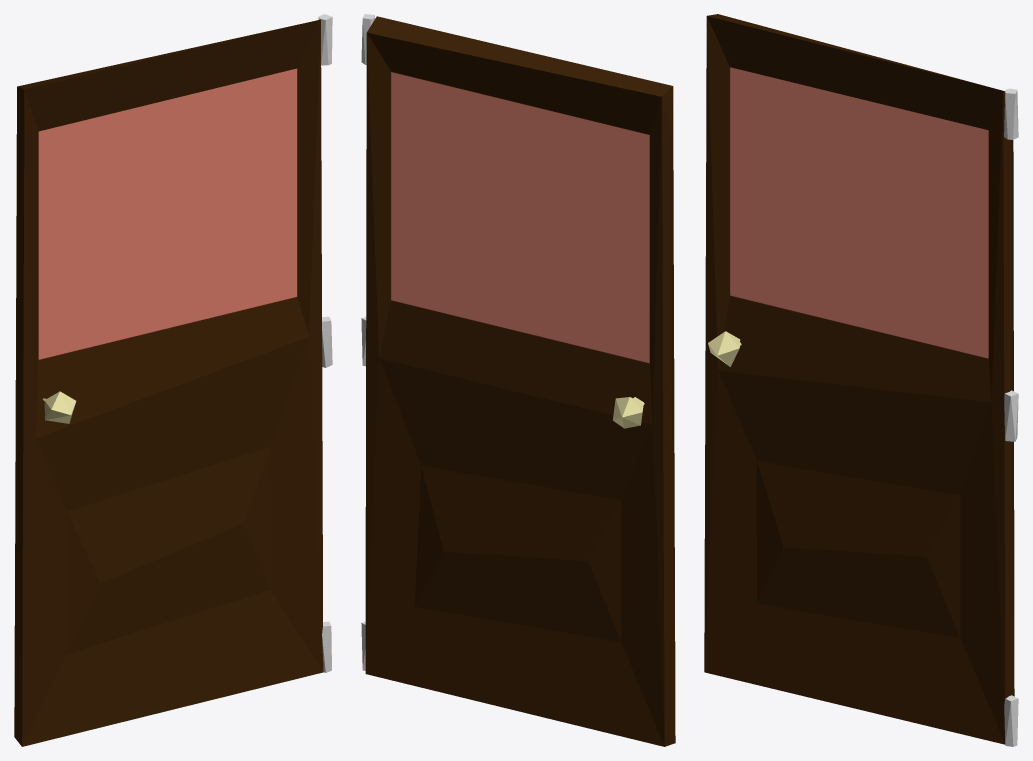
The model's file is porte_simple.fbx.
3 renders of one model, left to right at view 1: azimuth 30°, elevation 25°; view 2: azimuth 150°, elevation 25°; view 3: azimuth 330°, elevation 25°, orthographic.
Visible parts, largest first — view 1: Cylinder.021; view 2: Cylinder.021; view 3: Cylinder.021.
Boxes of the visible parts, x1,y1,x2,y2 form: Cylinder.021: [14, 14, 332, 746]; Cylinder.021: [361, 14, 675, 746]; Cylinder.021: [704, 14, 1018, 746].
Size of the model in its own units: 99.89 by 201 by 24.94.
